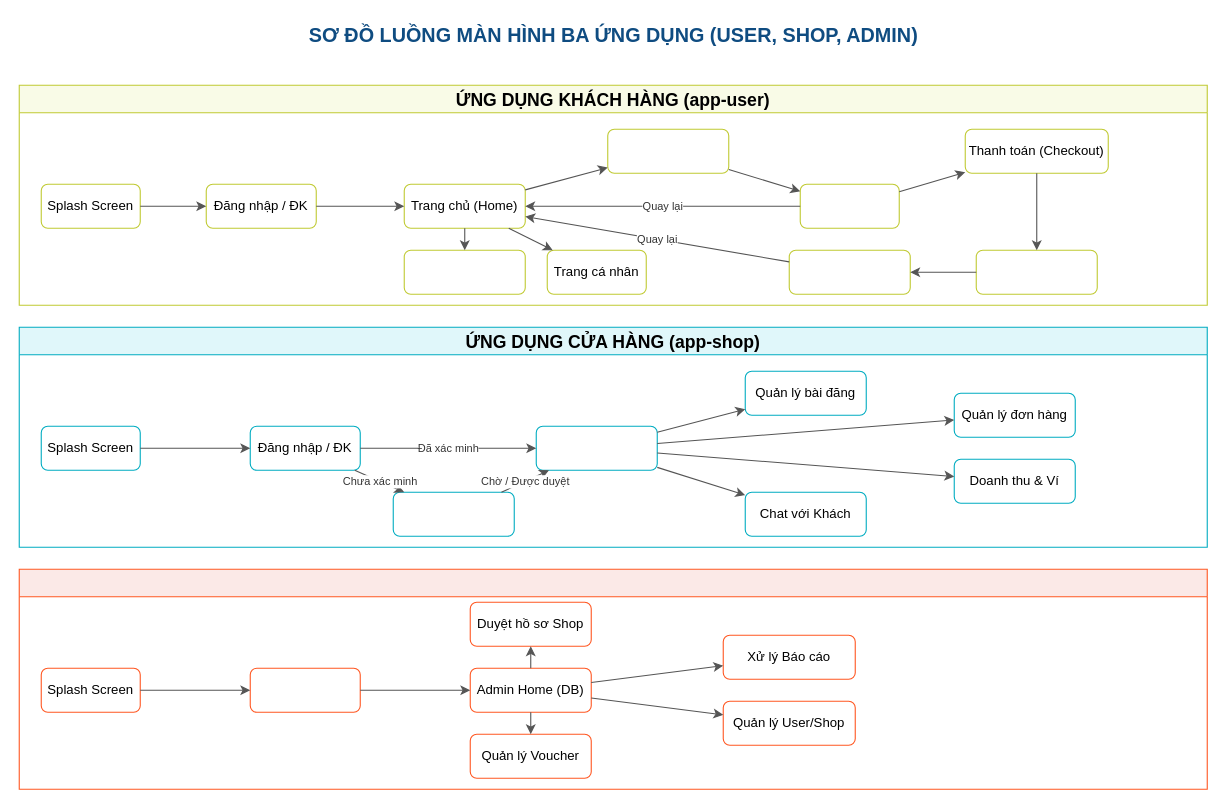
This 1227x809 diagram has some shape labels left out. Each missing label, with the box of its shape:
Admin Login: (249, 667, 360, 712)
Chi tiết món / Shop: (607, 128, 729, 173)
Dashboard Shop: (535, 425, 657, 470)
Giỏ hàng: (799, 183, 899, 228)
Lịch sử đơn hàng: (788, 249, 910, 294)
Màn hình Quét QR: (975, 249, 1097, 294)
Trò chuyện (Chat): (403, 249, 525, 294)
ĐK Xác minh Shop: (392, 491, 514, 536)
ỨNG DỤNG QUẢN TRỊ (app-admin): (18, 568, 1207, 789)
